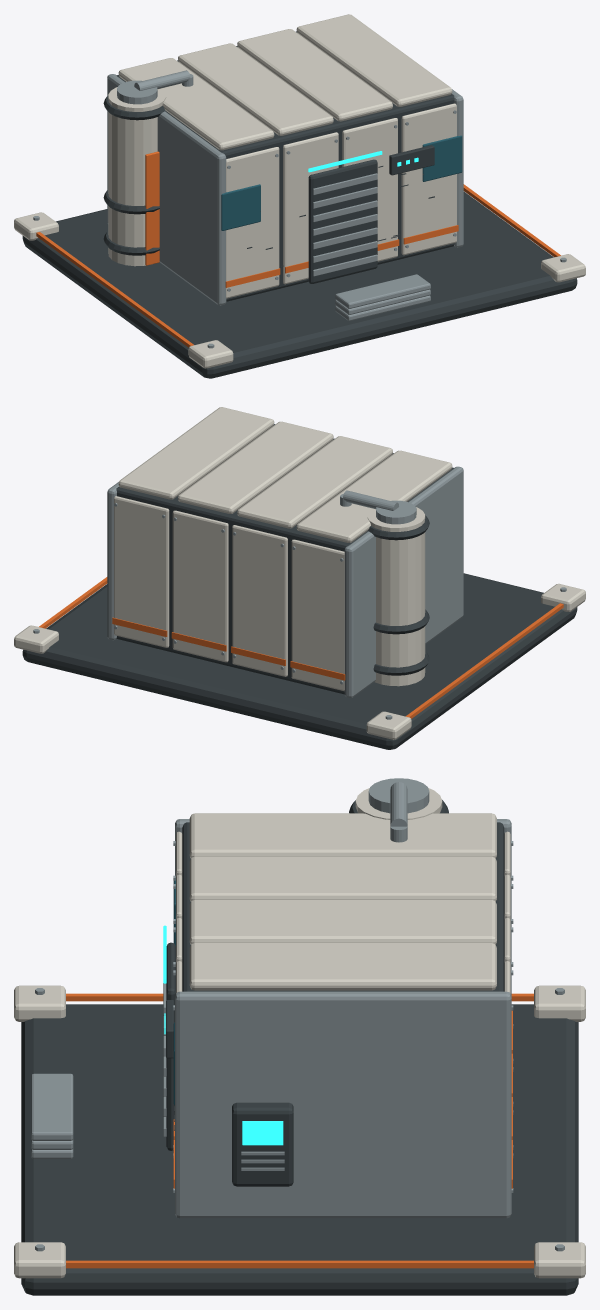
The model's file is SM_ResearchLaboratory_Body.fbx.
3 renders of one model, top to bottom at view 1: azimuth 30°, elevation 25°; view 2: azimuth 150°, elevation 25°; view 3: azimuth 270°, elevation 25°, orthographic. The views are drawn at different scales.
Visible parts, largest first — view 1: SM_ResearchLaboratory_Body; view 2: SM_ResearchLaboratory_Body; view 3: SM_ResearchLaboratory_Body.
Part boxes in pixels (x1,y1,x2,y2): SM_ResearchLaboratory_Body: [14, 14, 585, 378]; SM_ResearchLaboratory_Body: [14, 407, 585, 749]; SM_ResearchLaboratory_Body: [14, 778, 585, 1295].
Size of the model in its own units: 532 by 462 by 257.
